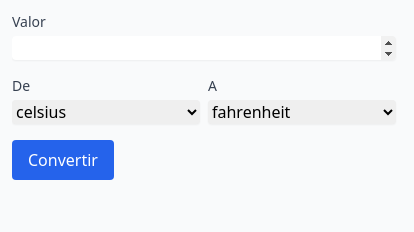
Test: shows error when API fails
Step 1. Type "0" into the number field labelled "Valor" → (204,48), box [12,36,396,60]
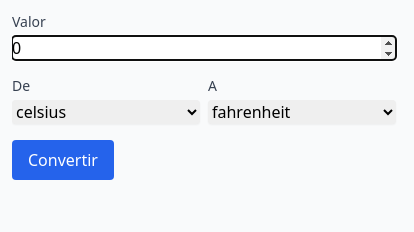
Step 2. Click the button "Convertir" → (63,160), box [12,140,114,180]
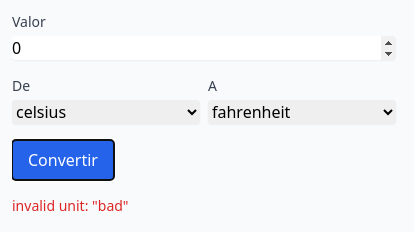
Expected: the message "invalid unit: \"bad\"" is shown, [12,196,129,215]
